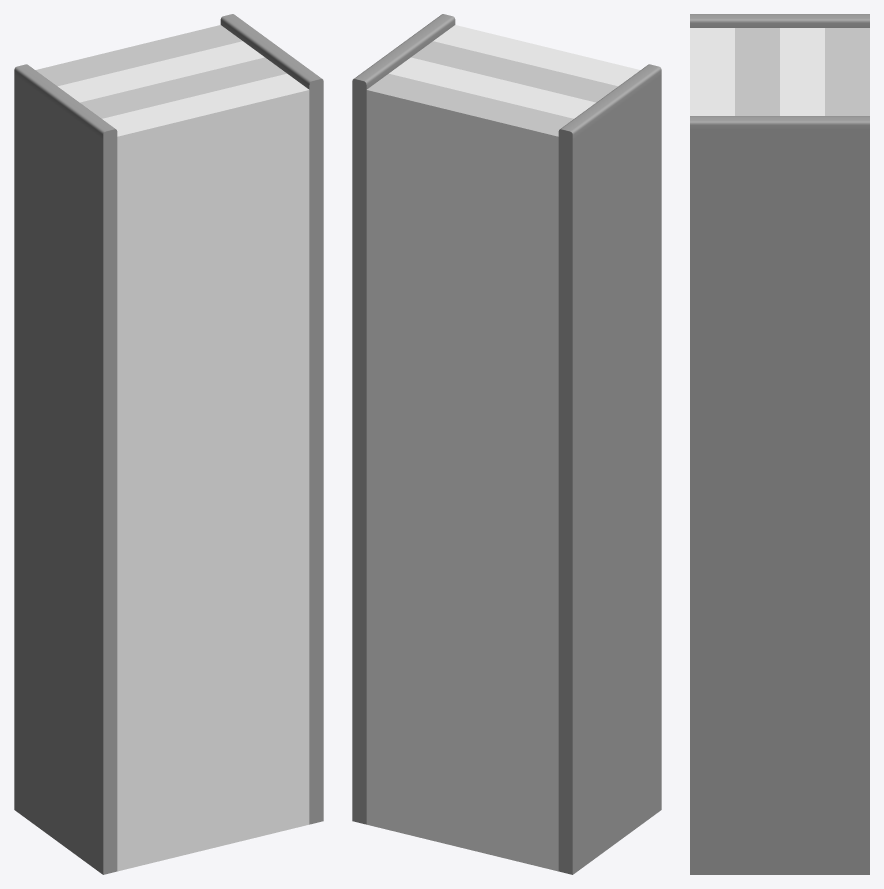
The model's file is ground_new.FBX.
3 renders of one model, left to right at view 1: azimuth 30°, elevation 25°; view 2: azimuth 150°, elevation 25°; view 3: azimuth 270°, elevation 25°, orthographic.
Parts seen in each view (by area): view 1: ground_new; view 2: ground_new; view 3: ground_new.
Boxes of the visible parts, bbox=[...] form: ground_new: bbox=[14, 14, 323, 874]; ground_new: bbox=[352, 14, 661, 874]; ground_new: bbox=[690, 14, 869, 874].
Bounding box in the file's own units: 287 × 923 × 200.
